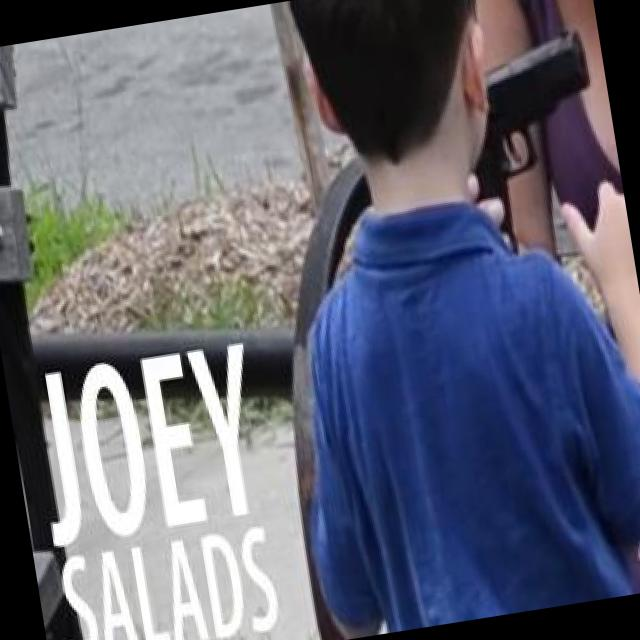Guns: (420, 7, 632, 268)
